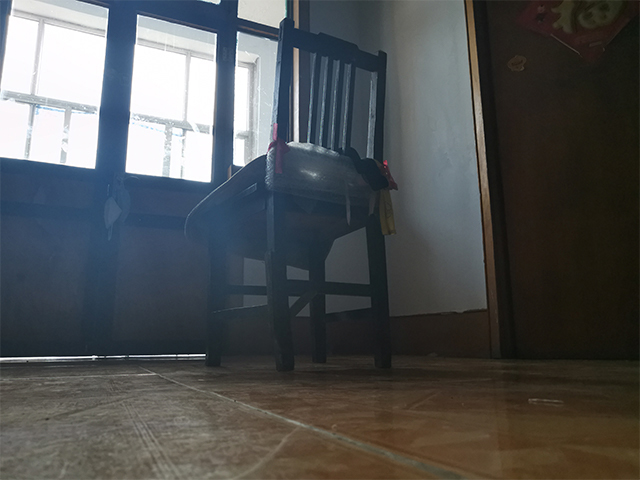stool: (192, 14, 397, 373)
